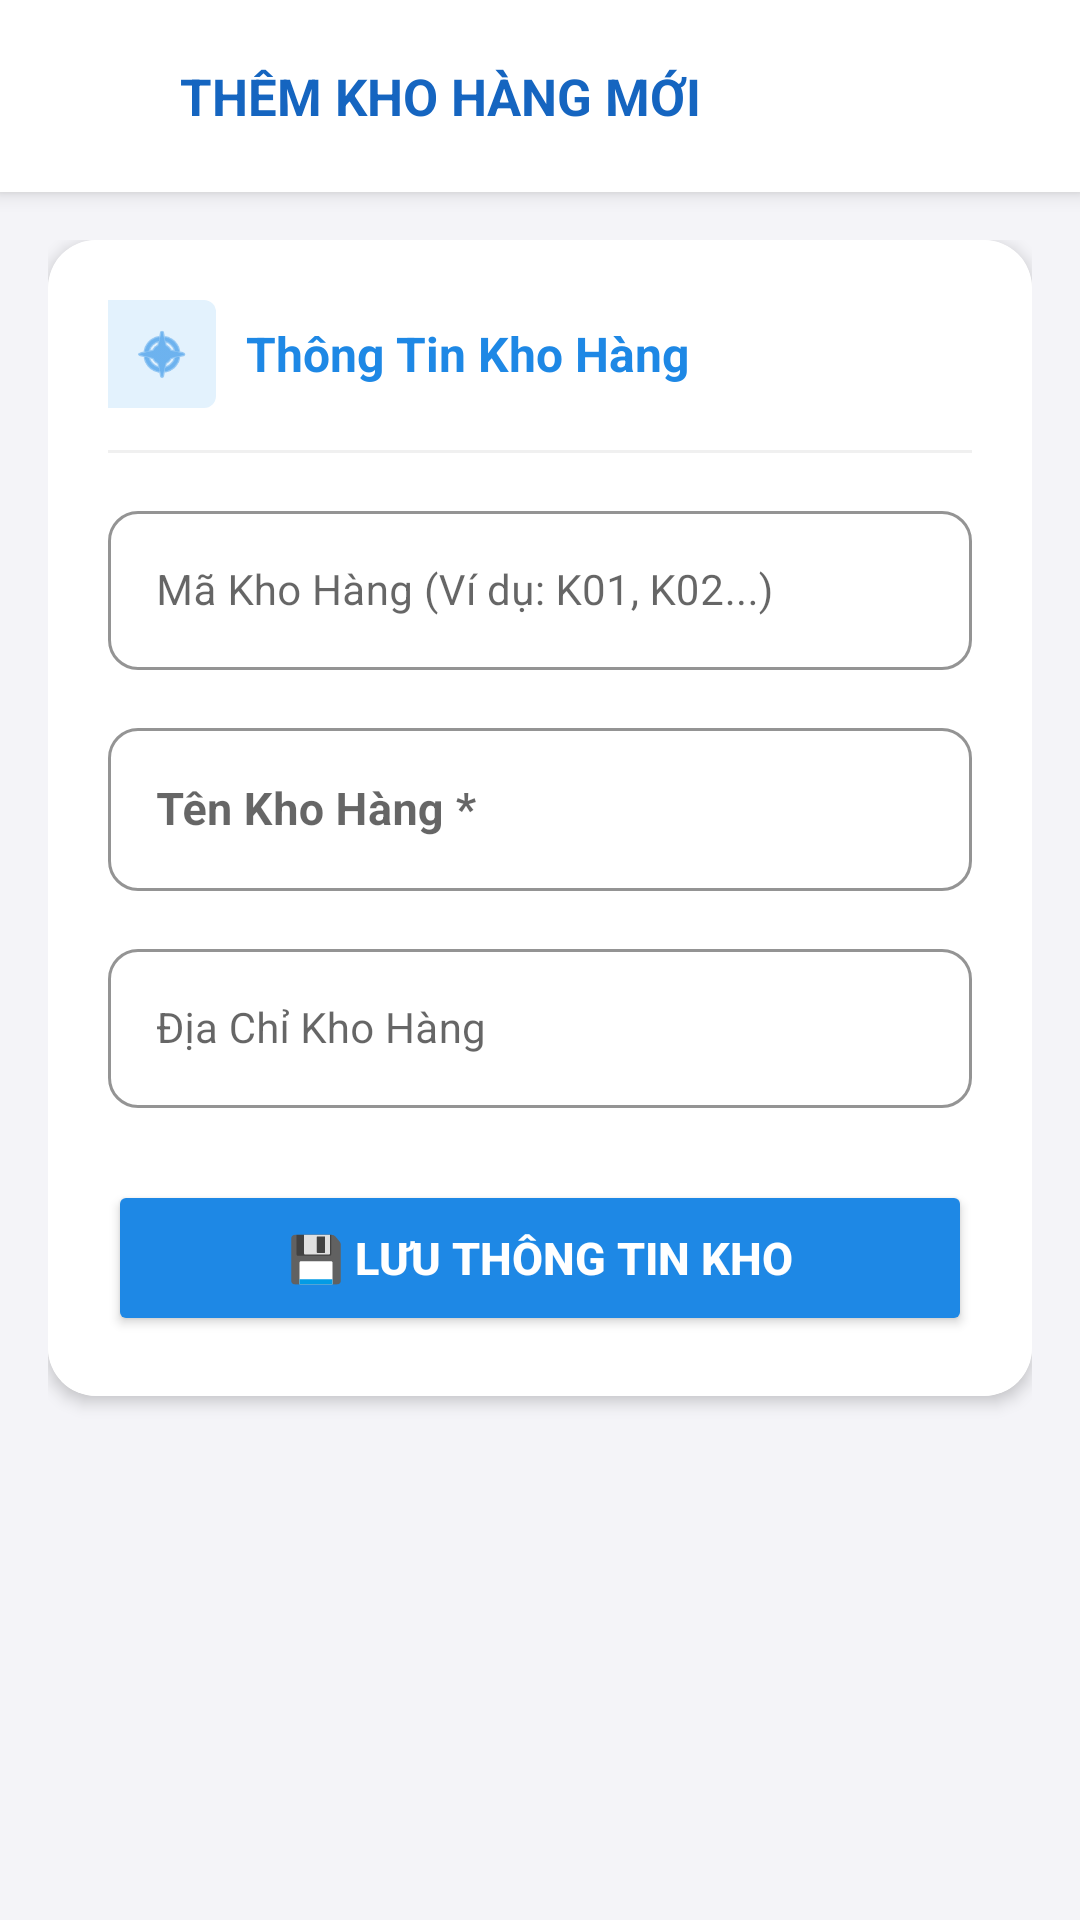

Screen size 1080px×1920px. Icon name, then its box in pixels as (x1, y1, x2, y2):
compass: (108, 300, 216, 408)
